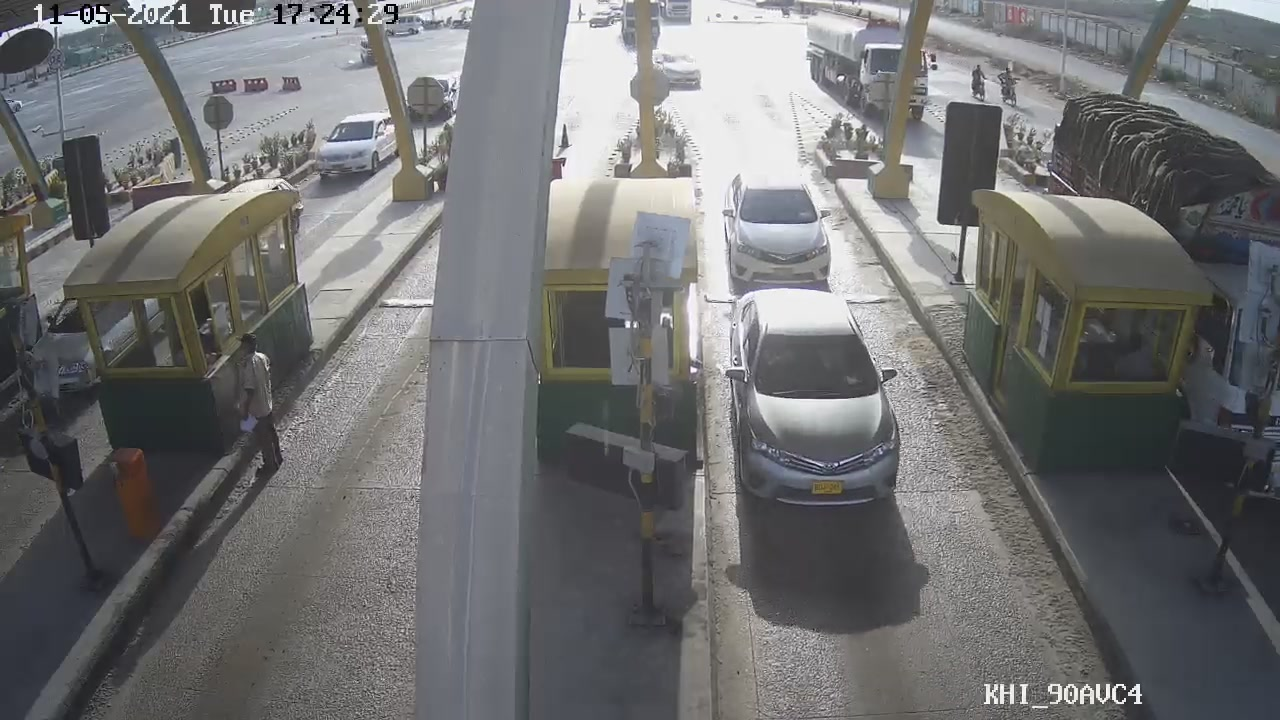F1: (716, 285, 923, 510)
